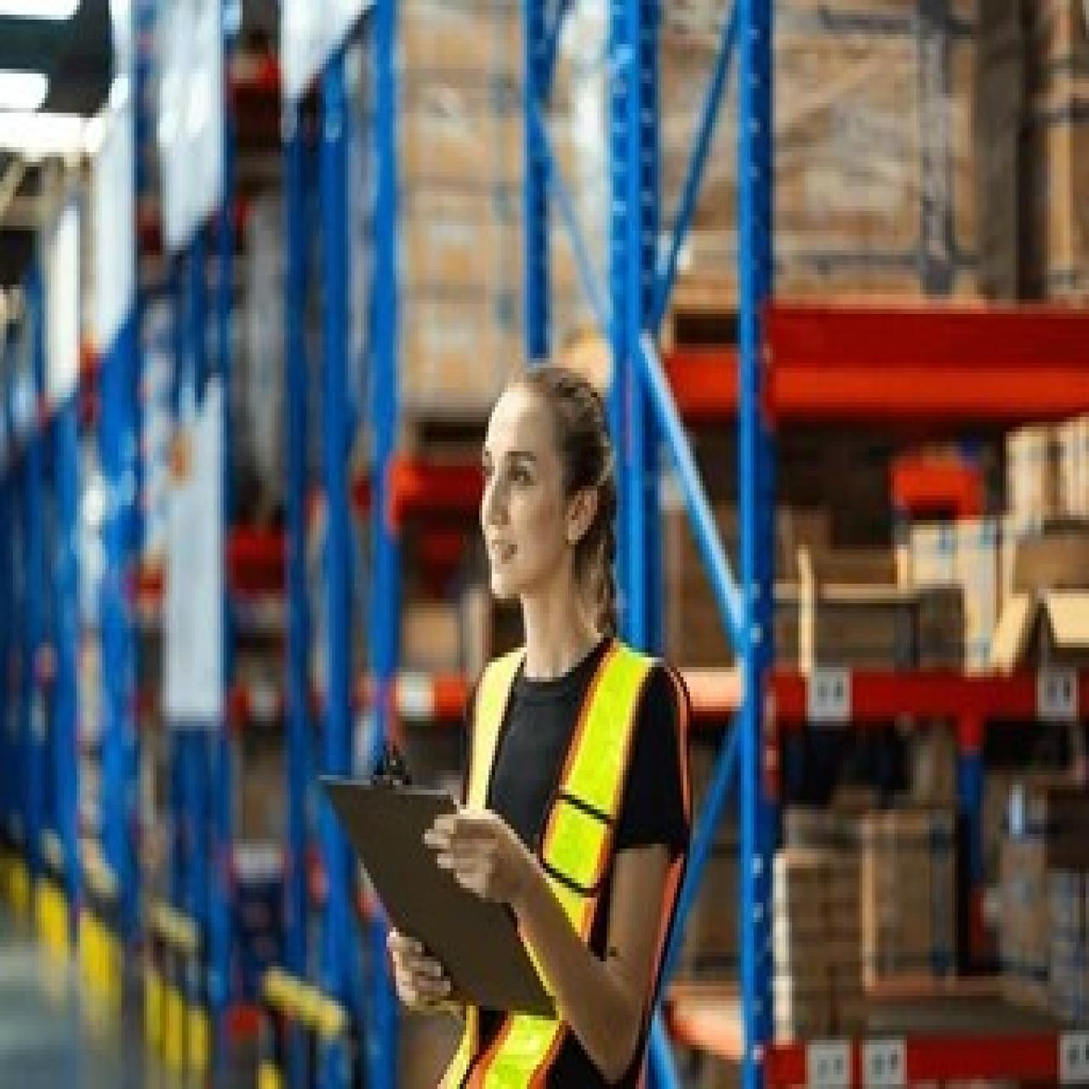Person: (337, 326, 740, 1089)
Safety_Vest: (442, 620, 702, 1089)
